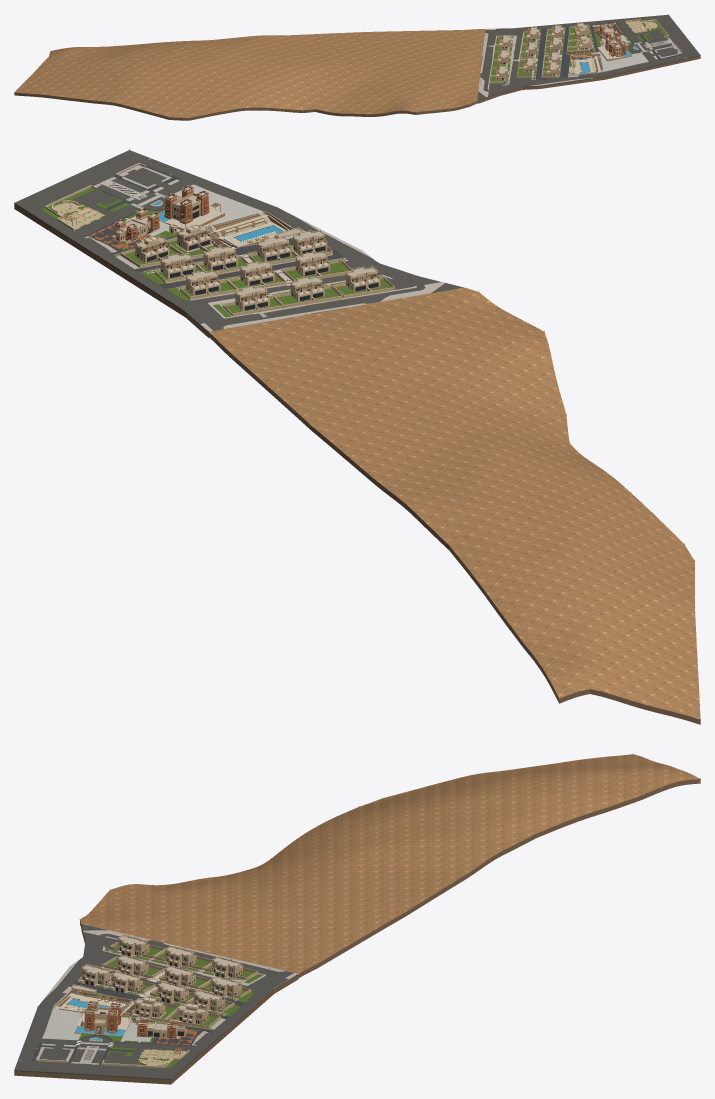
Rendered from Mirleft_Tranche_1_D5_NO_TREES.fbx.
3 views of the same model, one above another, from view 1: azimuth 30°, elevation 25°; view 2: azimuth 150°, elevation 25°; view 3: azimuth 270°, elevation 25° (orthographic). The views are drawn at different scales.
Parts seen in each view (by area): view 1: TERRAIN_SITE_EMPTY_LAND, GROUND_ASPHALT_BASE_asphalt, GROUND_LAWN_lawn, GROUND_PAVING_kerb_paving, GROUND_LANE_lane, WALLS_PLANTERS_render, RESTAURANT, GROUND_TERRACE_terrace_hb, POOL_COURT.001, WALLS_PLANTERS_trim, GROUND_STABILISE_stabilise, COMMERCES_1_2 (+2 smaller); view 2: TERRAIN_SITE_EMPTY_LAND, GROUND_ASPHALT_BASE_asphalt, GROUND_LAWN_lawn, GROUND_PAVING_kerb_paving, WALLS_PLANTERS_render, GROUND_LANE_lane, RESTAURANT, POOL_COURT.001, WALLS_PLANTERS_trim, GROUND_TERRACE_terrace_hb, COMMERCES_1_2; view 3: TERRAIN_SITE_EMPTY_LAND, GROUND_ASPHALT_BASE_asphalt, WALLS_PLANTERS_render, GROUND_PAVING_kerb_paving, GROUND_LAWN_lawn, GROUND_LANE_lane, RESTAURANT, GROUND_TERRACE_terrace_hb, WALLS_PLANTERS_trim, POOL_COURT.001, COMMERCES_1_2, DUPLEX_D3_D4 (+10 smaller).
Part boxes in pixels (x1,y1,x2,y2): TERRAIN_SITE_EMPTY_LAND: (14,14,700,120); GROUND_ASPHALT_BASE_asphalt: (477,14,700,101); GROUND_LAWN_lawn: (490,19,666,81); GROUND_PAVING_kerb_paving: (478,21,686,97); GROUND_LANE_lane: (535,22,682,79); WALLS_PLANTERS_render: (489,19,682,84); RESTAURANT: (597,35,632,61); GROUND_TERRACE_terrace_hb: (594,35,648,71); POOL_COURT.001: (570,53,603,74); WALLS_PLANTERS_trim: (489,19,682,83); GROUND_STABILISE_stabilise: (625,20,656,32); COMMERCES_1_2: (598,23,618,39); TERRAIN_SITE_EMPTY_LAND: (14,149,700,724); GROUND_ASPHALT_BASE_asphalt: (14,150,463,332); GROUND_LAWN_lawn: (41,187,391,317); GROUND_PAVING_kerb_paving: (58,158,445,331); WALLS_PLANTERS_render: (45,163,394,316); GROUND_LANE_lane: (83,163,344,288); RESTAURANT: (159,185,224,229); POOL_COURT.001: (207,211,293,248); WALLS_PLANTERS_trim: (45,163,394,313); GROUND_TERRACE_terrace_hb: (125,185,262,236); COMMERCES_1_2: (114,208,159,244); TERRAIN_SITE_EMPTY_LAND: (14,753,700,1084); GROUND_ASPHALT_BASE_asphalt: (14,924,298,1079); WALLS_PLANTERS_render: (36,942,258,1068); GROUND_PAVING_kerb_paving: (18,930,297,1068); GROUND_LAWN_lawn: (79,944,263,1068); GROUND_LANE_lane: (32,972,244,1064); RESTAURANT: (74,1001,131,1035); GROUND_TERRACE_terrace_hb: (43,1008,151,1042); WALLS_PLANTERS_trim: (36,942,257,1066); POOL_COURT.001: (54,990,132,1013); COMMERCES_1_2: (136,1015,186,1038); DUPLEX_D3_D4: (133,996,165,1018).
Bounding box in the file's own units: 581 × 69.85 × 406.
Materials: 38 (24 with a texture image).
